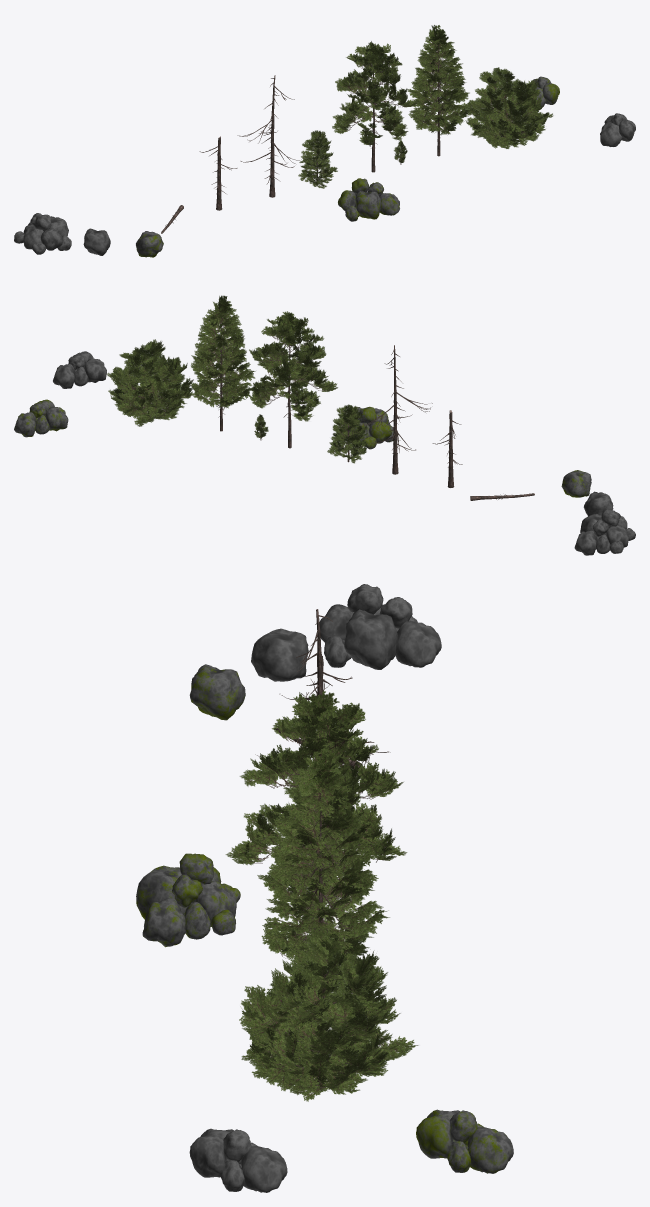
3 renders of one model, top to bottom at view 1: azimuth 30°, elevation 25°; view 2: azimuth 150°, elevation 25°; view 3: azimuth 270°, elevation 25°, orthographic. The views are drawn at different scales.
Parts seen in each view (by area): view 1: PineTree_1, ConiferousShrub_3, FirTree_0, BoulderOutcropMossyLarge_9, BoulderOutcropPlainLarge_11, NobleFirTree_2, BoulderOutcropPlainMedium_12, Coniferous Dead Tree_6, BoulderPlainLarge_13, BoulderMossyLarge_8, BoulderOutcropMossyMedium_10, Coniferous Dead Tree 2_7; view 2: PineTree_1, FirTree_0, ConiferousShrub_3, BoulderOutcropPlainLarge_11, NobleFirTree_2, BoulderOutcropMossyMedium_10, BoulderOutcropPlainMedium_12, BoulderOutcropMossyLarge_9, Coniferous Dead Tree_6, BoulderMossyLarge_8, BoulderPlainLarge_13, Coniferous Dead Tree 2_7; view 3: ConiferousShrub_3, FirTree_0, PineTree_1, BoulderOutcropPlainLarge_11, BoulderOutcropMossyLarge_9, BoulderOutcropPlainMedium_12, BoulderOutcropMossyMedium_10, BoulderPlainLarge_13, BoulderMossyLarge_8.
Boxes of the visible parts, left/top/right/bottom form: PineTree_1: left=332, top=41, right=418, bottom=172; ConiferousShrub_3: left=461, top=67, right=553, bottom=148; FirTree_0: left=408, top=25, right=470, bottom=156; BoulderOutcropMossyLarge_9: left=338, top=178, right=399, bottom=221; BoulderOutcropPlainLarge_11: left=14, top=213, right=71, bottom=254; NobleFirTree_2: left=298, top=130, right=337, bottom=188; BoulderOutcropPlainMedium_12: left=600, top=113, right=635, bottom=146; Coniferous Dead Tree_6: left=237, top=75, right=301, bottom=197; BoulderPlainLarge_13: left=83, top=228, right=110, bottom=255; BoulderMossyLarge_8: left=136, top=231, right=163, bottom=257; BoulderOutcropMossyMedium_10: left=526, top=76, right=559, bottom=110; Coniferous Dead Tree 2_7: left=199, top=136, right=237, bottom=210; PineTree_1: left=246, top=311, right=337, bottom=448; FirTree_0: left=190, top=295, right=255, bottom=431; ConiferousShrub_3: left=107, top=339, right=193, bottom=426; BoulderOutcropPlainLarge_11: left=574, top=509, right=635, bottom=555; NobleFirTree_2: left=327, top=404, right=367, bottom=463; BoulderOutcropMossyMedium_10: left=14, top=399, right=68, bottom=437; BoulderOutcropPlainMedium_12: left=53, top=351, right=106, bottom=388; BoulderOutcropMossyLarge_9: left=342, top=406, right=393, bottom=449; Coniferous Dead Tree_6: left=361, top=345, right=432, bottom=474; BoulderMossyLarge_8: left=561, top=470, right=591, bottom=497; BoulderPlainLarge_13: left=583, top=491, right=613, bottom=516; Coniferous Dead Tree 2_7: left=432, top=410, right=462, bottom=487; ConiferousShrub_3: left=239, top=928, right=418, bottom=1101; FirTree_0: left=257, top=747, right=389, bottom=962; PineTree_1: left=225, top=688, right=407, bottom=919; BoulderOutcropPlainLarge_11: left=319, top=584, right=441, bottom=669; BoulderOutcropMossyLarge_9: left=136, top=853, right=240, bottom=947; BoulderOutcropPlainMedium_12: left=189, top=1128, right=287, bottom=1192; BoulderOutcropMossyMedium_10: left=416, top=1109, right=513, bottom=1173; BoulderPlainLarge_13: left=251, top=628, right=308, bottom=681; BoulderMossyLarge_8: left=189, top=664, right=245, bottom=720.
Size of the model in its own units: 80.07 by 18.97 by 22.68.
